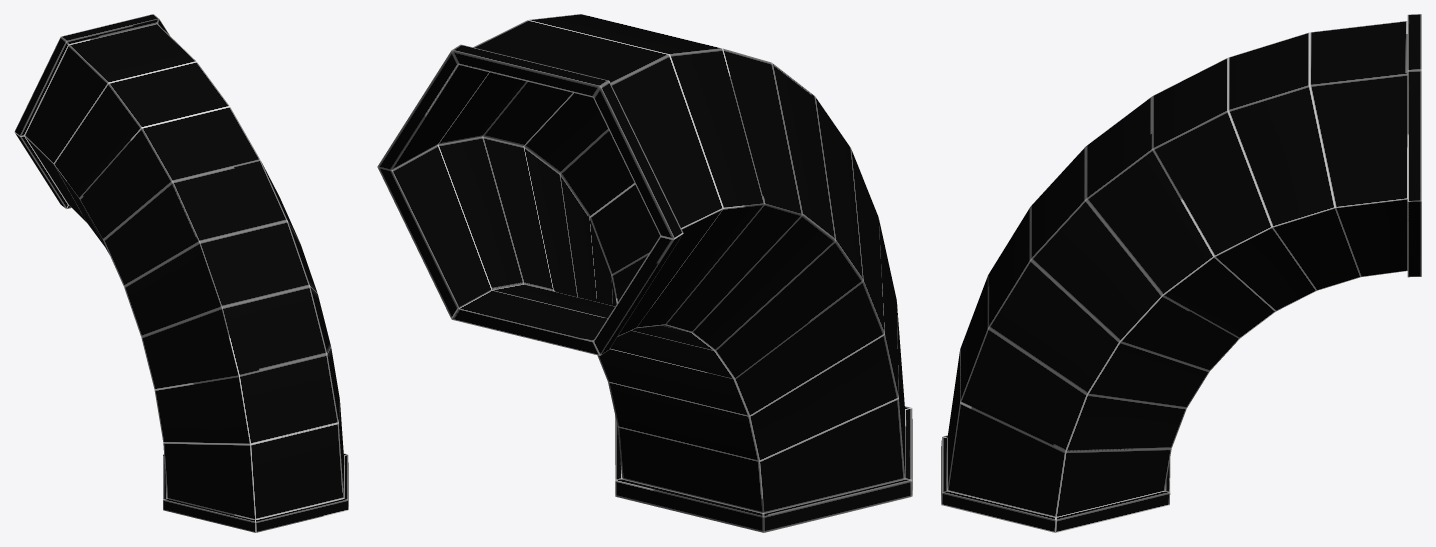
The picture shows the model from 3 angles, left to right: view 1: azimuth 30°, elevation 25°; view 2: azimuth 150°, elevation 25°; view 3: azimuth 270°, elevation 25°; orthographic projection. The views are drawn at different scales.
Parts seen in each view (by area): view 1: DD_17; view 2: DD_17; view 3: DD_17.
Boxes of the visible parts, box(x1,y1,x2,y2) form: DD_17: box(14, 14, 348, 532); DD_17: box(377, 14, 912, 532); DD_17: box(941, 14, 1421, 532).
Size of the model in its own units: 2000 by 3643 by 3643.
Materials: 1 (1 with a texture image).
